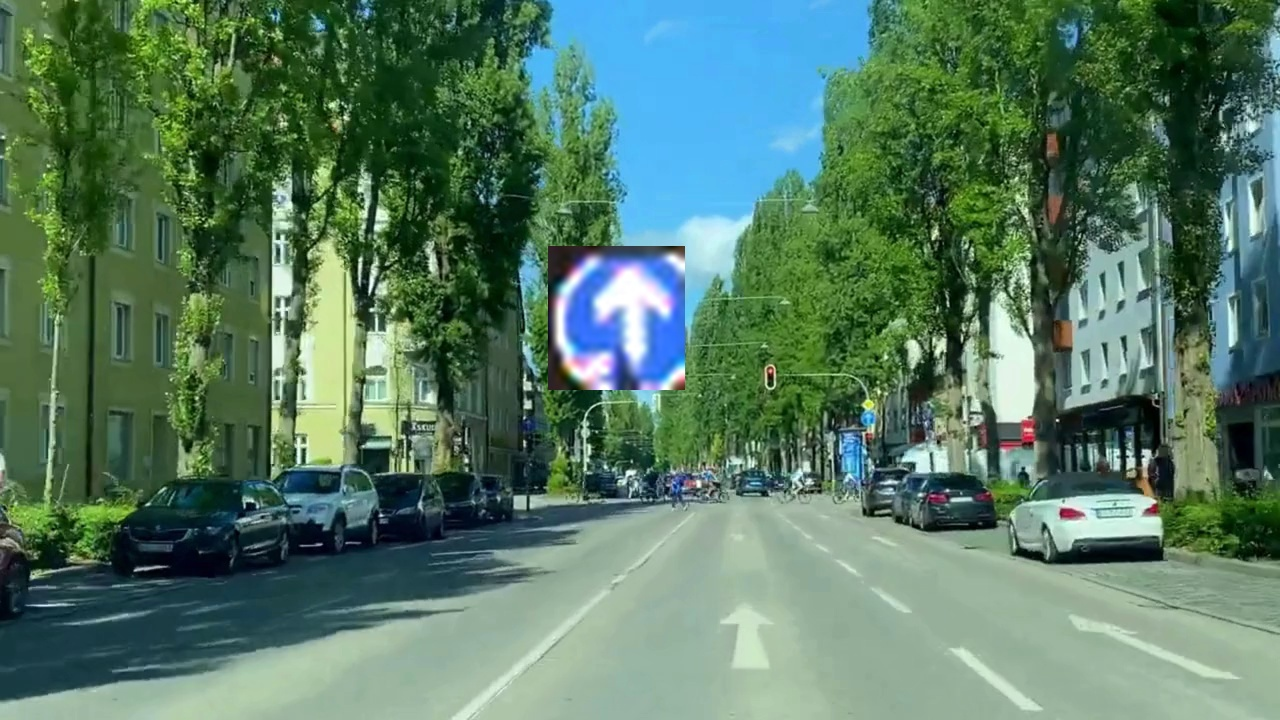Ahead only: (548, 246, 685, 390)
